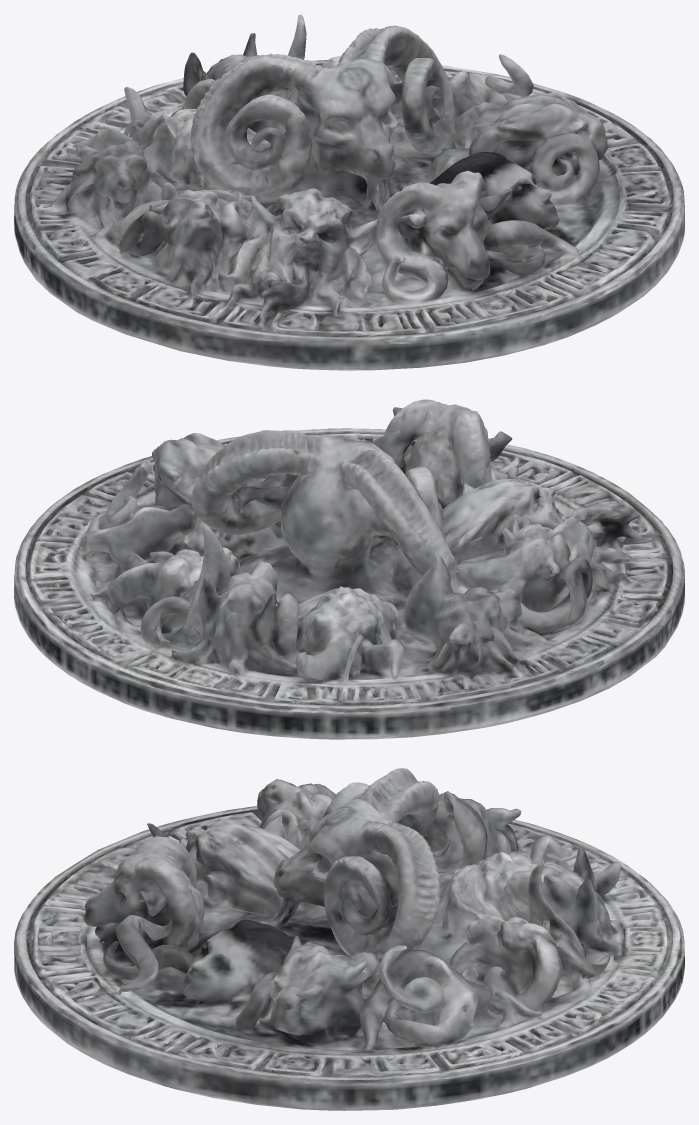
The model's file is floor_seal.glb.
3 renders of one model, top to bottom at view 1: azimuth 30°, elevation 25°; view 2: azimuth 150°, elevation 25°; view 3: azimuth 270°, elevation 25°, orthographic.
Visible parts, largest first — view 1: Object_6; view 2: Object_6; view 3: Object_6.
Boxes of the visible parts, x1,y1,x2,y2 form: Object_6: (14, 14, 684, 370); Object_6: (14, 399, 684, 739); Object_6: (14, 768, 684, 1110).
Bounding box in the file's own units: 1.9 × 0.5339 × 1.9.
1 material, 1 textured.
